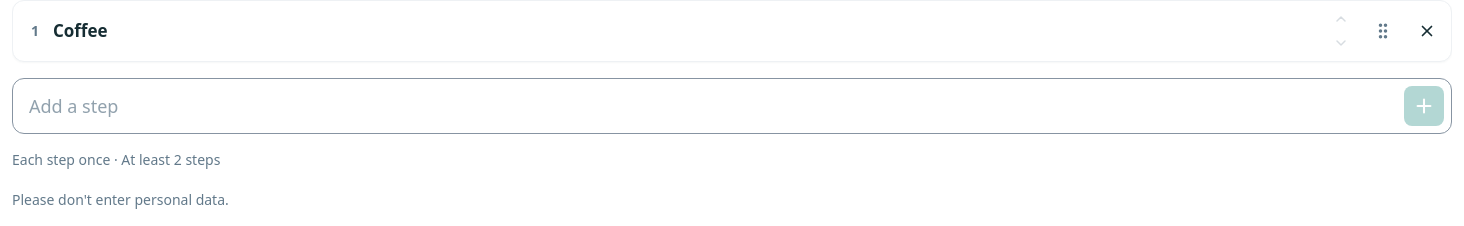
Test: TraceEditor (free) › prevents duplicates when repeats are off and warns
The image size is (1464, 226).
Later steps or results of the test are not shown.
Step 1. Type "coffee" into the dropdown with test id "trace-input" → [732, 106], box [12,78,1452,134]
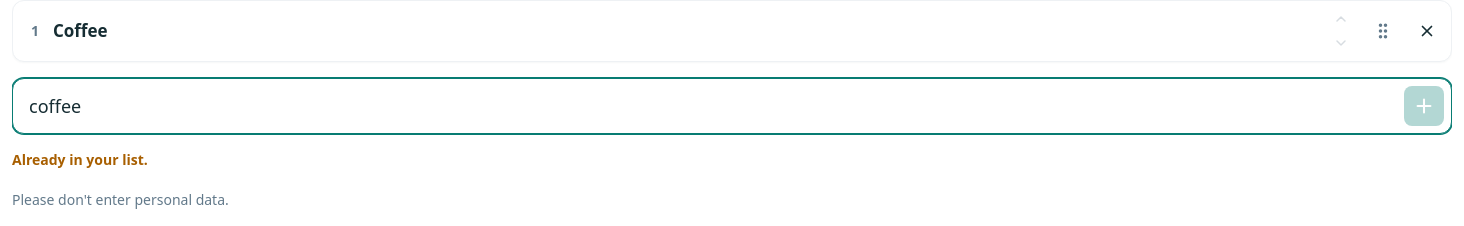
Expected: the button with test id "trace-add" is disabled, [1404,86,1444,126]
Result: the text "Already in your list." is shown at [12,150,148,169]
